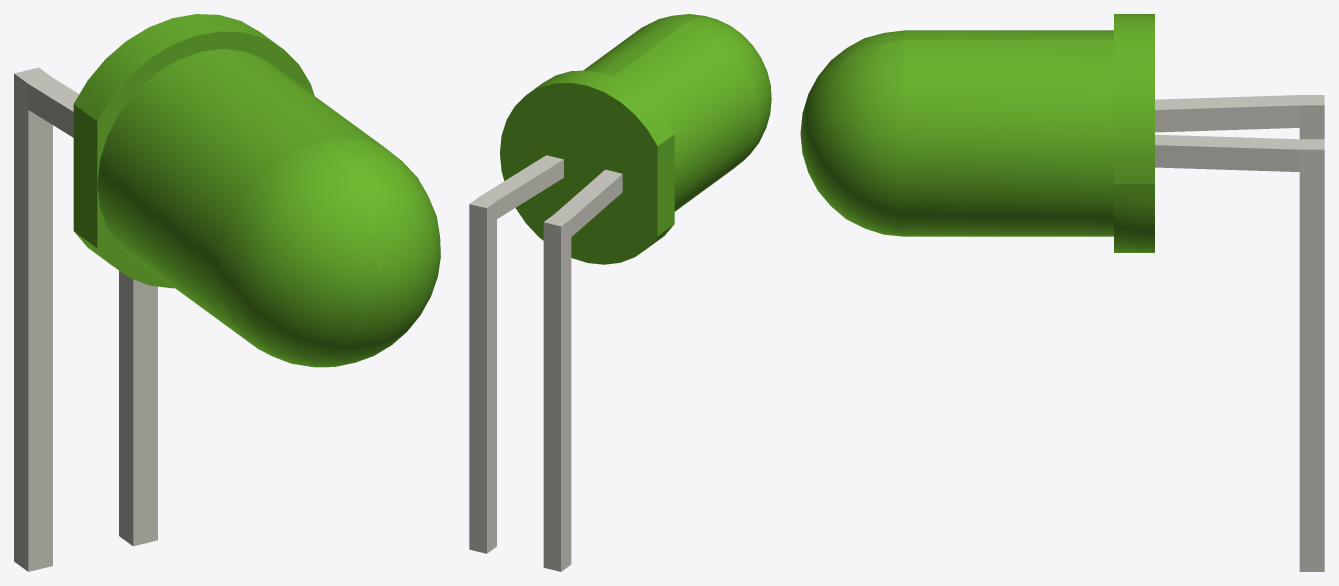
File: kc-led_d5.0mm_horizontal_o3.81mm_z9.0mm.glb
3 renders of one model, left to right at view 1: azimuth 30°, elevation 25°; view 2: azimuth 150°, elevation 25°; view 3: azimuth 270°, elevation 25°, orthographic. The views are drawn at different scales.
Visible parts, largest first — view 1: 0.16666666666666666_0.4166666666666667_0_0, 0.6666666666666666_0.6666666666666666_0.5833333333333334_0.8; view 2: 0.16666666666666666_0.4166666666666667_0_0, 0.6666666666666666_0.6666666666666666_0.5833333333333334_0.8; view 3: 0.16666666666666666_0.4166666666666667_0_0, 0.6666666666666666_0.6666666666666666_0.5833333333333334_0.8.
Boxes of the visible parts, x1,y1,x2,y2 form: 0.16666666666666666_0.4166666666666667_0_0: (73, 14, 440, 367); 0.6666666666666666_0.6666666666666666_0.5833333333333334_0.8: (14, 67, 157, 571); 0.16666666666666666_0.4166666666666667_0_0: (500, 14, 771, 264); 0.6666666666666666_0.6666666666666666_0.5833333333333334_0.8: (469, 155, 622, 571); 0.16666666666666666_0.4166666666666667_0_0: (800, 14, 1154, 252); 0.6666666666666666_0.6666666666666666_0.5833333333333334_0.8: (1155, 95, 1324, 571).
Size of the model in its own units: 0.54 by 1.39 by 1.27.
